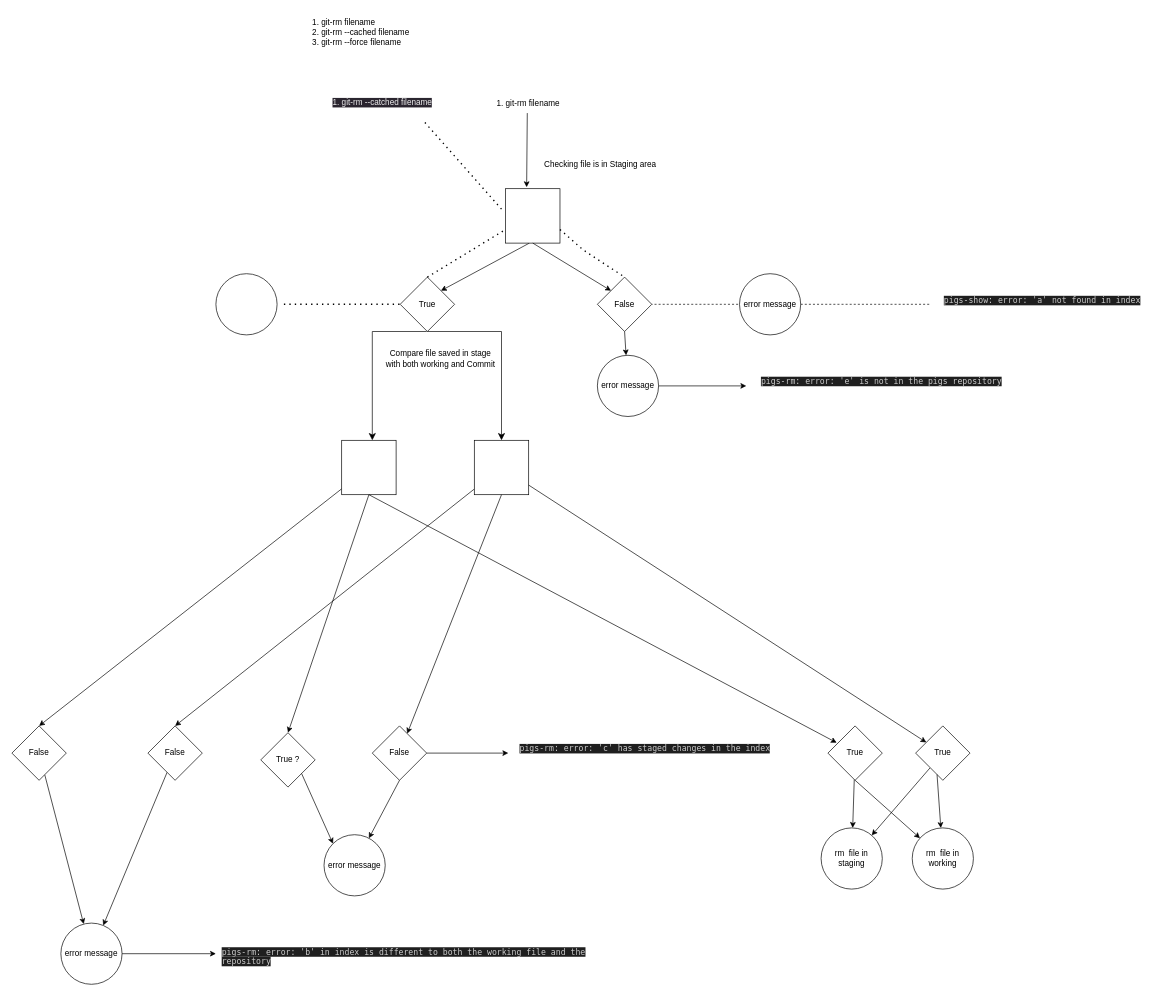
This 1159x996 diagram has some shape labels left out. Each missing label, with the centre of its shape:
Commit: the point at 501,467
rm file from staging: the point at 246,304
Staging: the point at 532,215
Working: the point at 368,467
